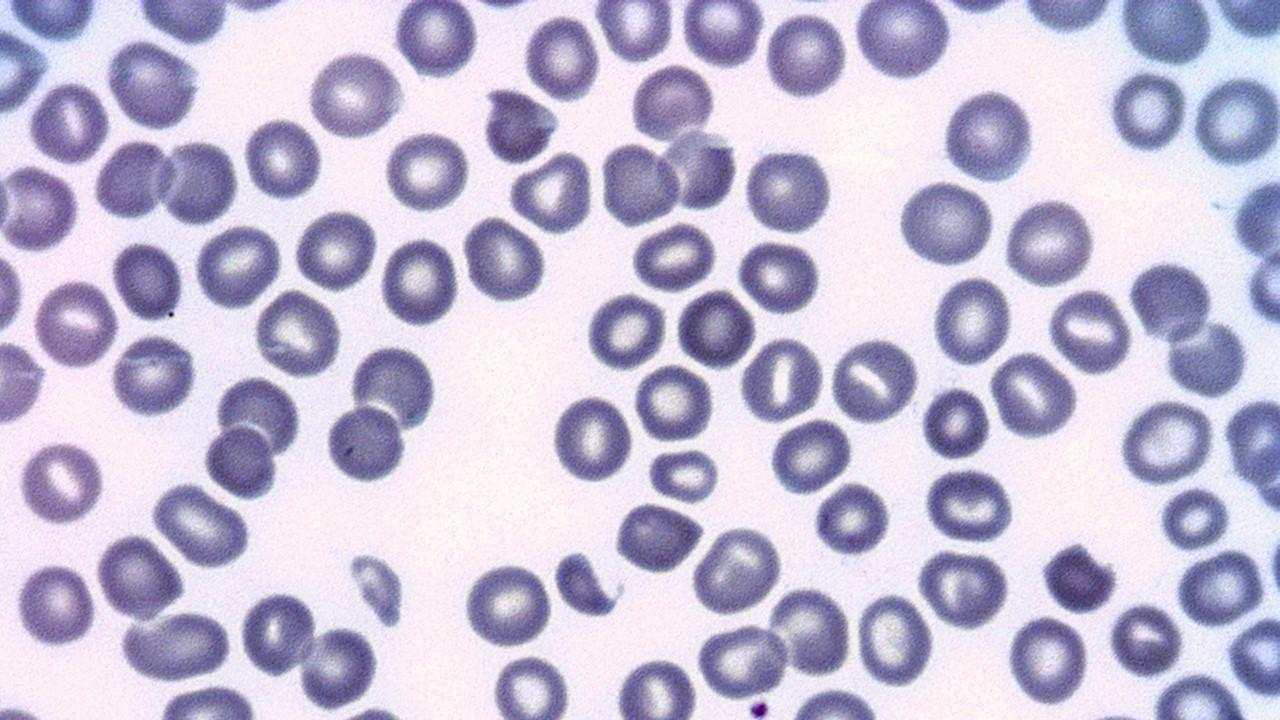Platelets: (744, 698, 772, 718), (1208, 198, 1232, 216)
RBC: (940, 84, 1036, 184), (894, 176, 994, 270), (103, 39, 204, 132), (304, 48, 404, 139), (147, 484, 252, 570), (1116, 397, 1216, 487), (347, 340, 440, 436), (1190, 71, 1278, 172), (688, 524, 784, 616), (1002, 196, 1098, 288), (740, 144, 836, 236), (459, 558, 555, 648), (828, 333, 920, 426), (252, 289, 344, 380), (850, 1, 952, 83), (16, 437, 108, 527), (119, 610, 233, 682), (988, 350, 1077, 442), (762, 8, 848, 103), (768, 583, 852, 680), (191, 222, 281, 312), (1047, 285, 1135, 377), (32, 275, 119, 368), (914, 546, 1010, 630), (96, 531, 184, 622), (1004, 614, 1091, 706), (548, 392, 634, 485), (462, 213, 548, 306), (378, 233, 460, 330), (854, 590, 935, 688), (382, 128, 472, 216), (930, 272, 1012, 368), (12, 558, 97, 650), (1125, 258, 1215, 344), (157, 136, 240, 229), (292, 207, 379, 295), (108, 333, 197, 418), (739, 334, 824, 423), (598, 138, 682, 228), (27, 78, 111, 168), (1173, 547, 1265, 629), (0, 161, 81, 254), (922, 464, 1016, 544), (508, 149, 594, 235), (628, 61, 717, 144), (297, 622, 379, 712), (1106, 67, 1188, 157), (523, 11, 602, 104), (323, 401, 407, 488), (242, 112, 323, 202), (238, 588, 317, 679), (694, 622, 788, 698), (658, 126, 738, 214), (1161, 320, 1251, 398), (584, 290, 668, 373), (93, 136, 172, 224), (735, 237, 823, 316), (611, 502, 706, 574), (633, 362, 715, 444), (672, 287, 752, 370), (394, 1, 478, 80), (629, 220, 718, 294), (768, 418, 854, 494), (480, 86, 560, 166), (1115, 1, 1213, 66), (111, 238, 185, 322), (1107, 600, 1185, 678), (202, 423, 278, 502), (813, 482, 892, 558), (1037, 540, 1119, 612), (680, 0, 764, 70), (1223, 392, 1279, 496), (490, 650, 574, 719), (920, 382, 992, 462), (1155, 485, 1233, 553), (346, 548, 408, 632), (612, 656, 698, 716), (550, 548, 622, 618), (595, 2, 675, 64), (1228, 172, 1280, 266), (1224, 612, 1280, 699), (131, 0, 232, 47), (1, 337, 52, 429), (1148, 671, 1248, 717), (645, 446, 721, 505), (1, 25, 48, 116), (4, 1, 100, 42), (156, 682, 258, 718), (1010, 0, 1120, 33), (1200, 0, 1280, 42), (1245, 242, 1280, 332), (0, 243, 27, 342)
